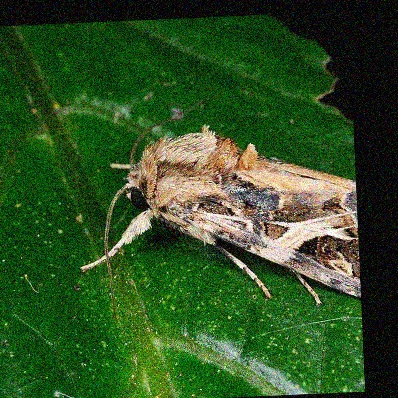Spodoptera litura: (76, 99, 356, 319)
